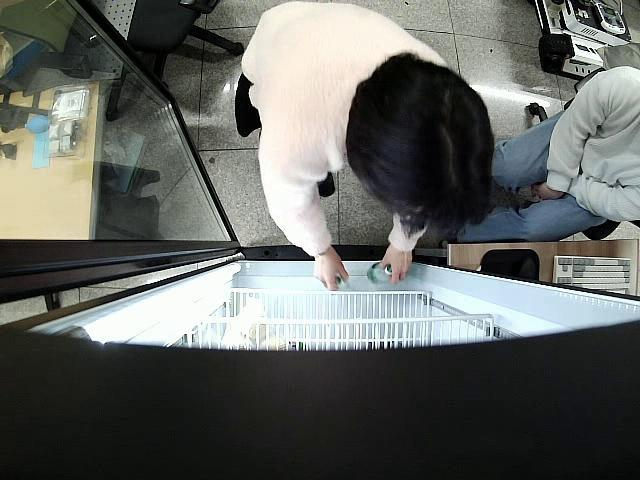18_trevi: (368, 264, 393, 286), (331, 270, 350, 292)
